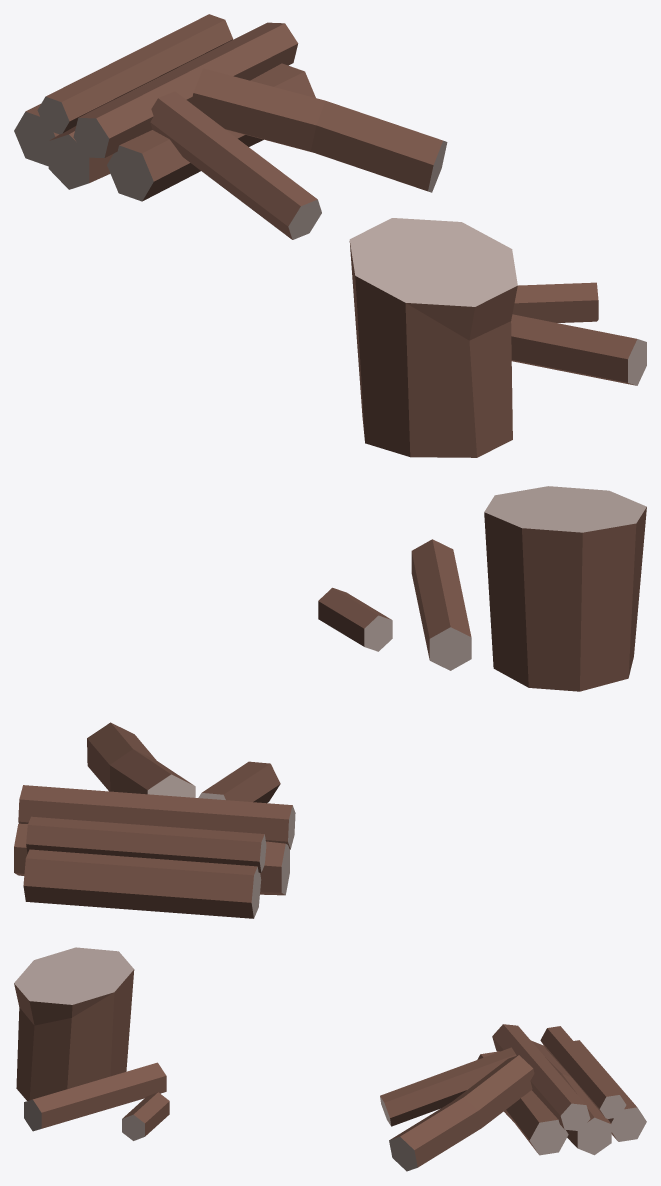
File: prop_008.fbx
The picture shows the model from 3 angles, top to bottom: view 1: azimuth 30°, elevation 25°; view 2: azimuth 150°, elevation 25°; view 3: azimuth 270°, elevation 25°; orthographic projection. The views are drawn at different scales.
Parts seen in each view (by area): view 1: prop.008; view 2: prop.008; view 3: prop.008.
Part boxes in pixels (bbox=[...]): prop.008: bbox=[14, 14, 646, 457]; prop.008: bbox=[14, 486, 646, 918]; prop.008: bbox=[14, 947, 646, 1171].
Bounding box in the file's own units: 185 × 93.48 × 436.
Materials: 1 (1 with a texture image).
